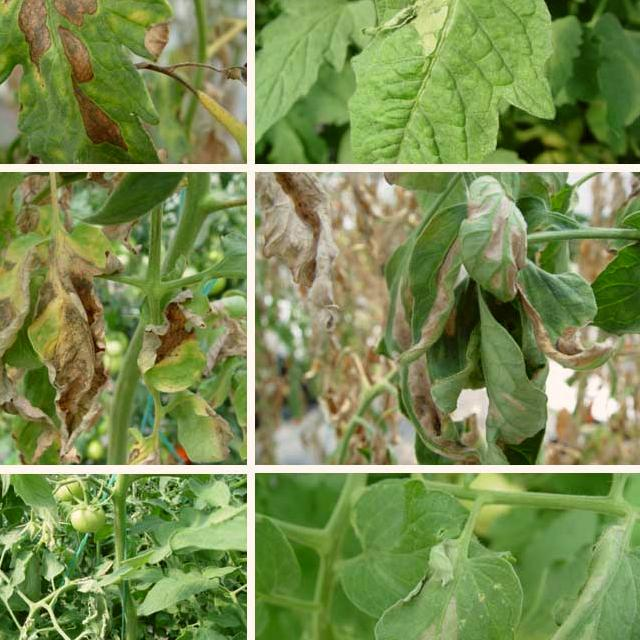Tomato leaf bacterial spot: (0, 0, 177, 153)
